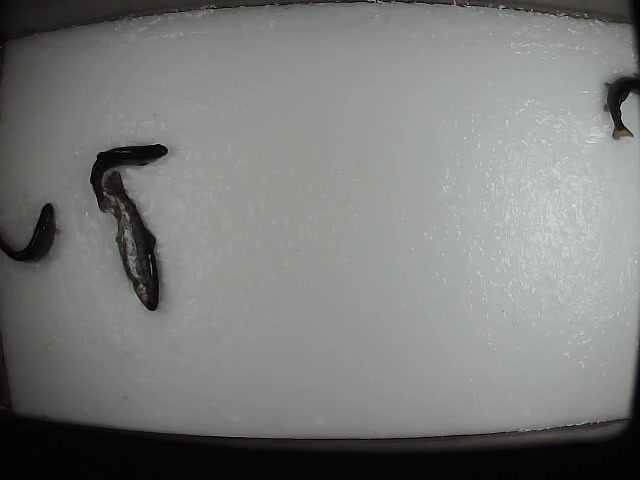fish: (97, 167, 162, 313), (88, 139, 170, 214), (595, 72, 640, 141)
